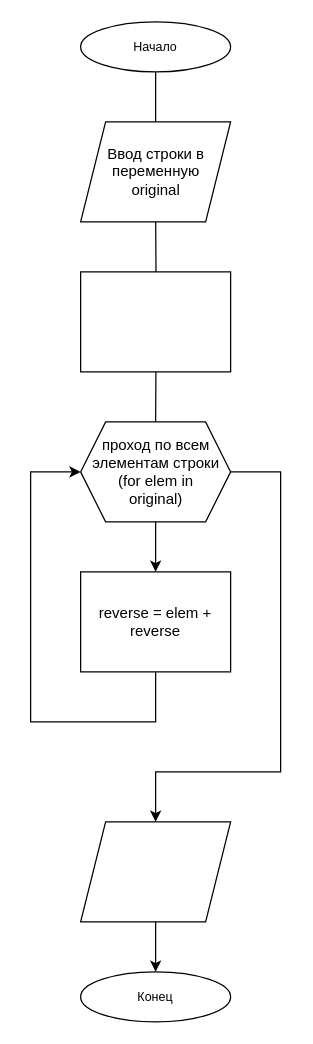
This 313x1044 diagram has some shape labels left out. Each missing label, with the centre of its shape:
Вывод строки reverse: the point at 155,871
Создаём строку reverse = "" в которой будет строка original в обратном порядке: the point at 155,321
